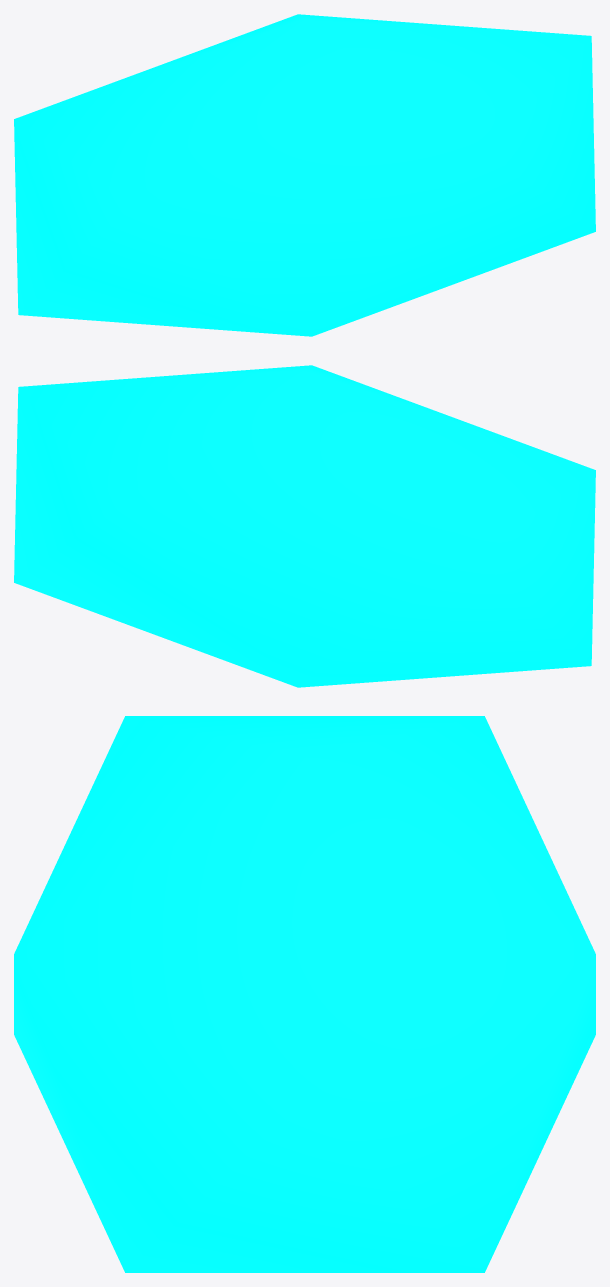
The model's file is SM_IceChunk.fbx.
3 renders of one model, top to bottom at view 1: azimuth 30°, elevation 25°; view 2: azimuth 150°, elevation 25°; view 3: azimuth 270°, elevation 25°, orthographic. The views are drawn at different scales.
Visible parts, largest first — view 1: SM_IceChunk; view 2: SM_IceChunk; view 3: SM_IceChunk.
Part boxes in pixels (x1,y1,x2,y2): SM_IceChunk: [14, 14, 595, 336]; SM_IceChunk: [14, 365, 595, 687]; SM_IceChunk: [14, 716, 595, 1272].
Size of the model in its own units: 35.06 by 20.25 by 18.2.
